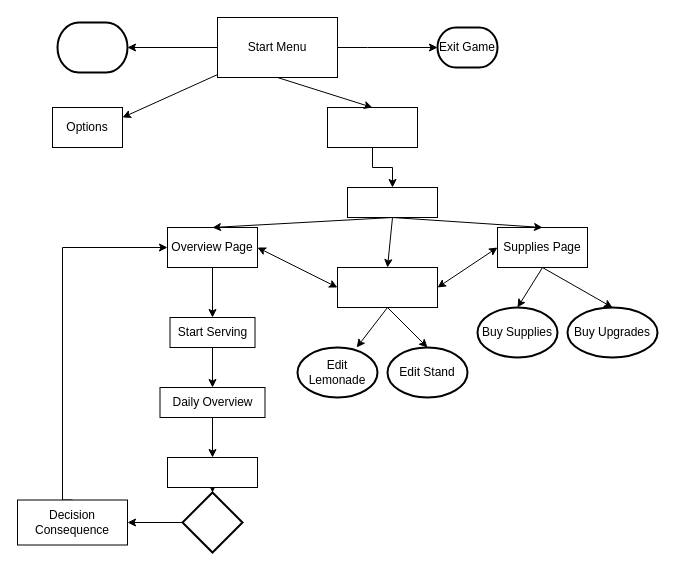
The diagram is 676 pixels wide and 571 high, and some of its shapes have lost their labels. The box of each missing label's shape, as (x1, y1, x2, y2) in pixels:
Credits: (56, 21, 128, 73)
Dashboard: (346, 186, 438, 218)
Lemonade Stand Page: (336, 266, 438, 308)
Make A decision: (181, 491, 243, 553)
Play Game: (326, 106, 418, 148)
Random Event: (166, 456, 258, 488)
